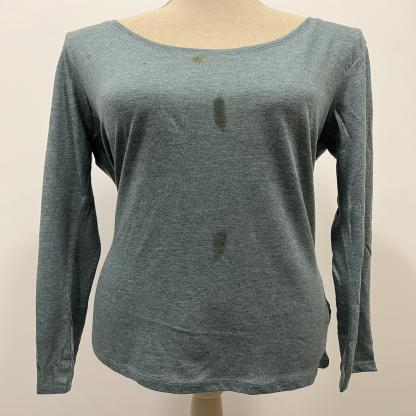stain: (208, 226, 236, 265), (209, 91, 231, 134), (189, 53, 217, 64)
